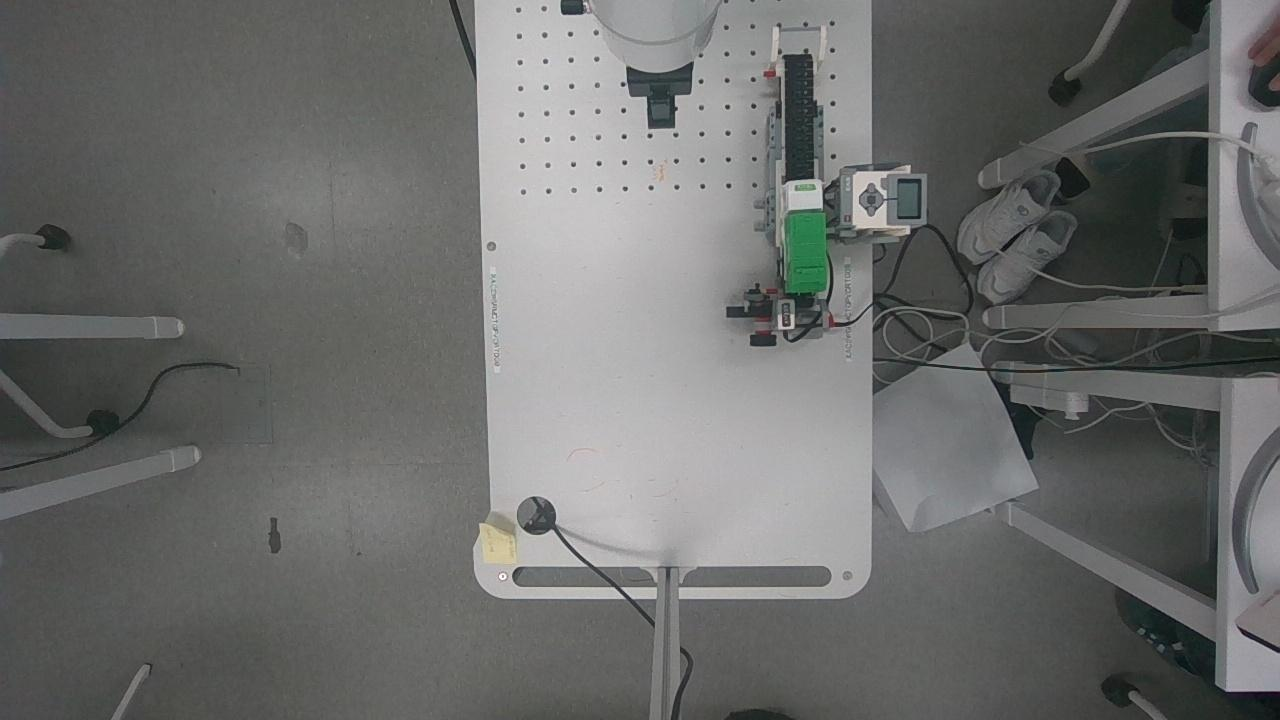truck: (768, 176, 832, 298)
